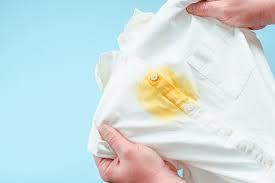lipstick: (143, 73, 191, 111)
